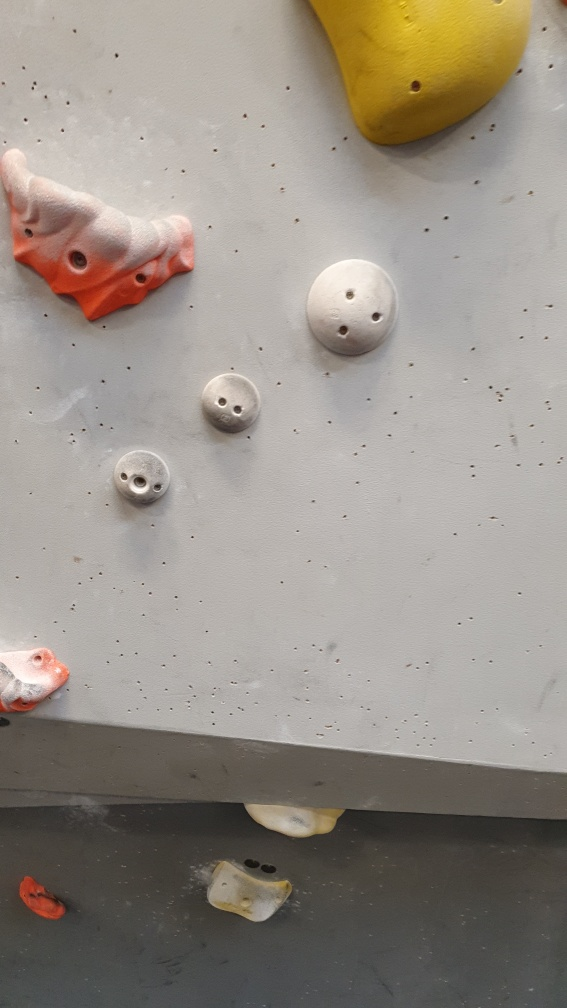Hand Start: (241, 851, 260, 874), (261, 858, 281, 878)
Jug: (1, 140, 201, 324), (14, 868, 70, 923)
Sloper: (299, 252, 403, 362), (110, 445, 173, 515), (200, 369, 265, 436)
